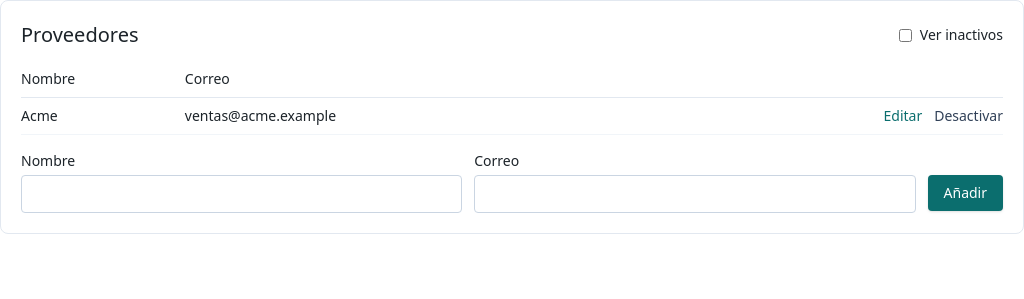
Test case: TablaLista › da de alta un registro y muestra los avisos
Expected: the text "Acme" is shown, [21,98,185,134]
In the field labelled "Nombre": [242, 194] box [21,175,462,213], type "Gamma"
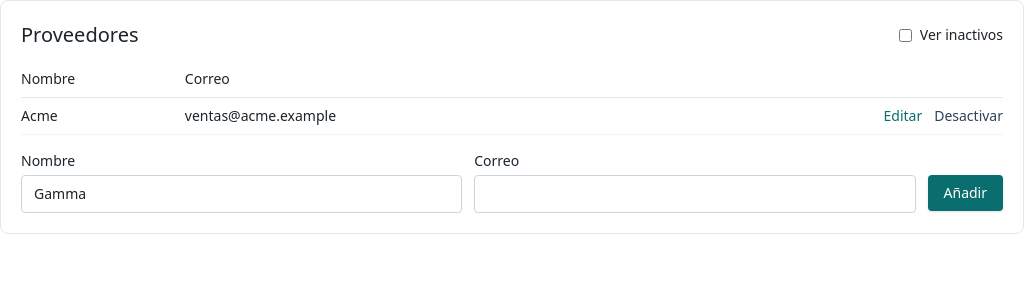
In the field labelled "Correo": [695, 194] box [474,175,916,213], type "g@g.example"
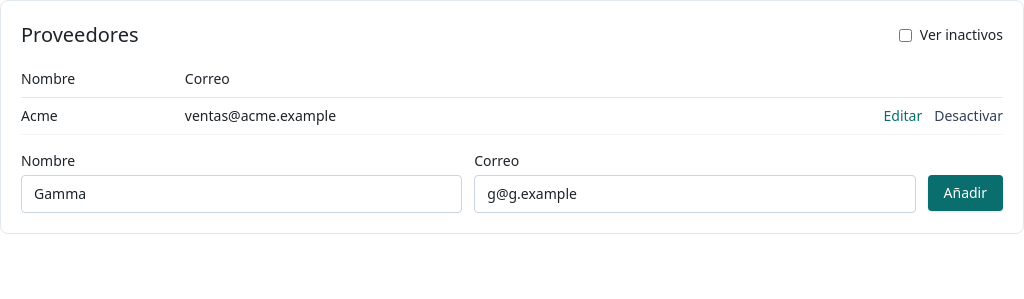
Click the button "Añadir": [965, 193] box [928,175,1003,211]
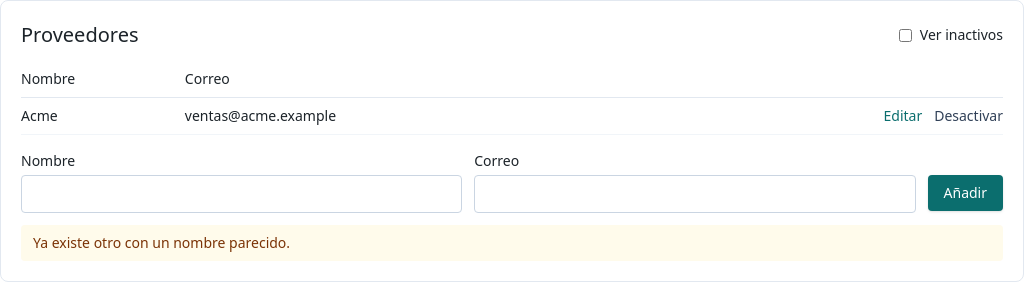
Expected: the text "Ya existe otro con un nombre parecido." is shown, [21,225,1003,261]
